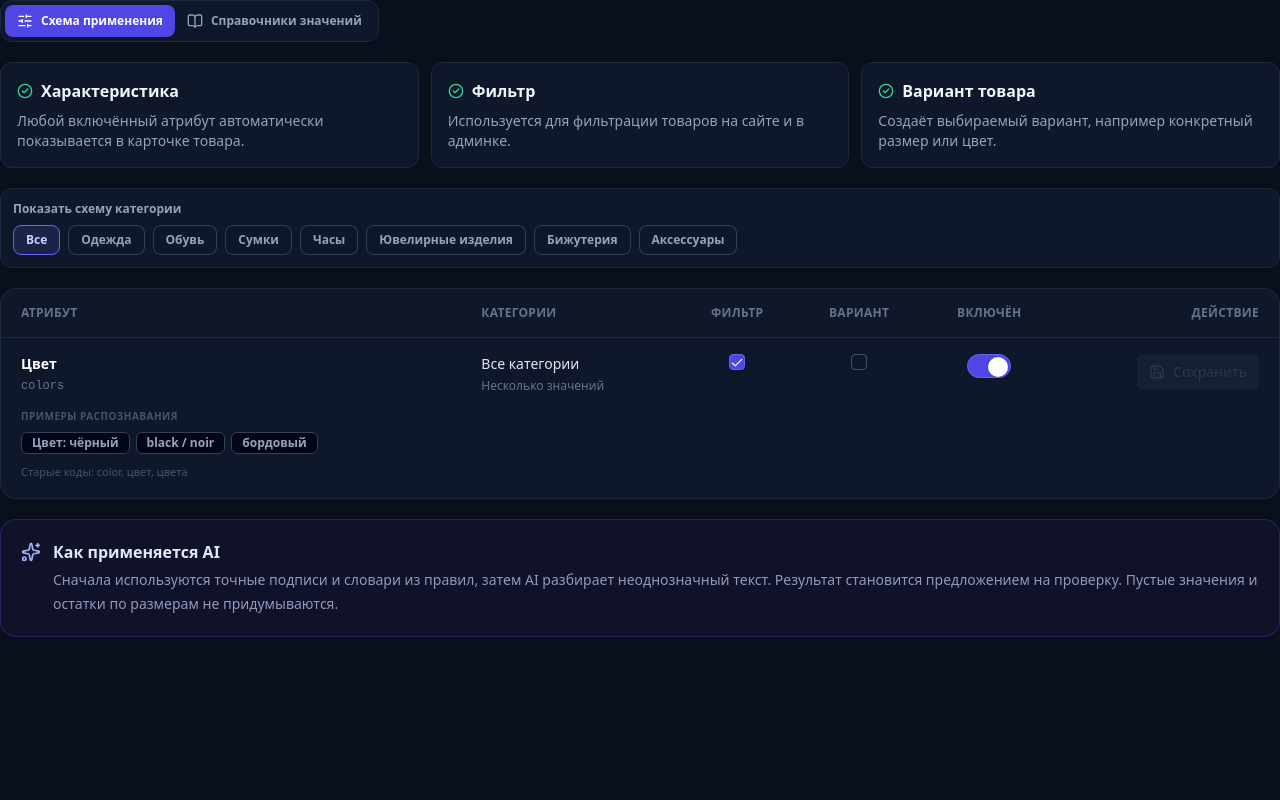
CatalogAttributeRegistry › separates parser examples from editable dictionary values
The width and height of the screenshot is (1280, 800).
Expected: the text "Примеры распознавания" is shown, [21,409,178,423]
Expected: the text "Цвет: чёрный" is shown, [21,432,130,454]
Click the button "Справочники значений".
click(274, 21)  # box [175,5,374,37]
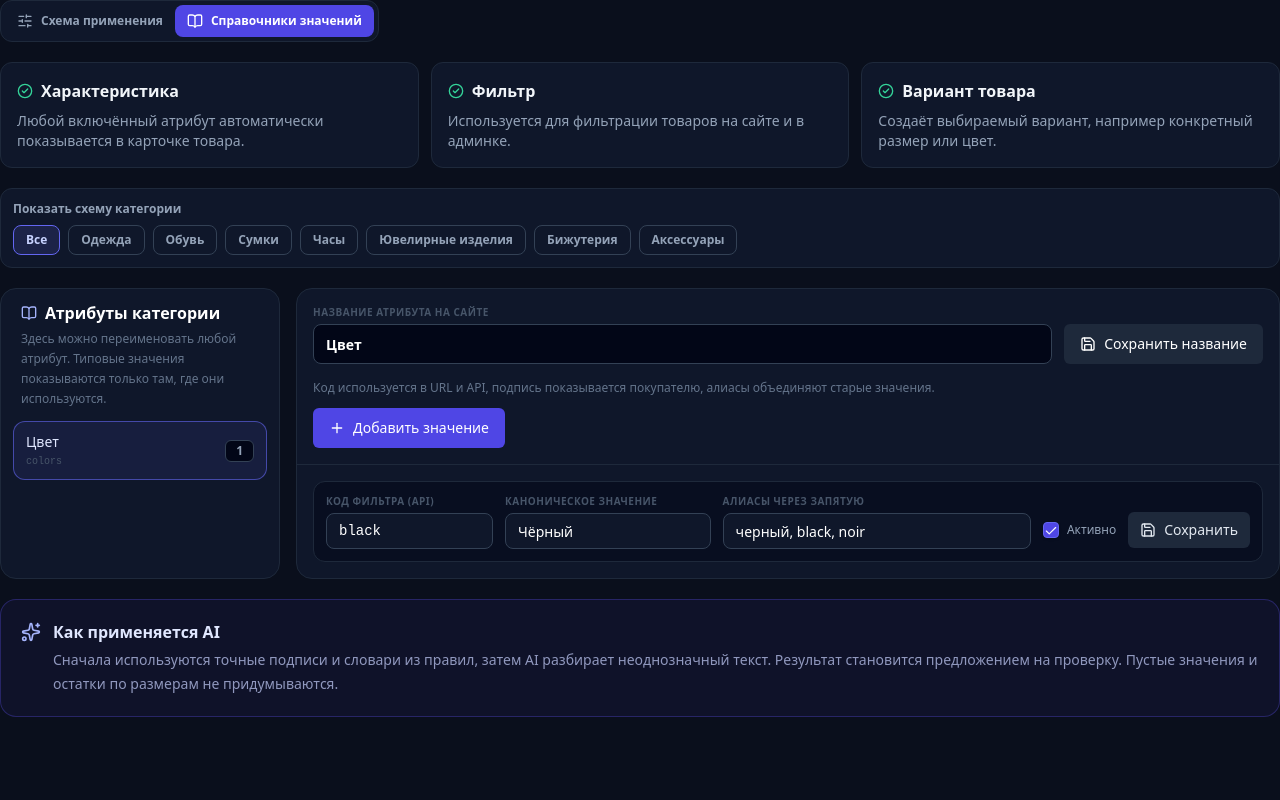
Now the field showing "black" is shown, box [326,513,493,549]
Now the field showing "Чёрный" is shown, box [505,513,711,549]
Now the field showing "черный, black, noir" is shown, box [723,513,1031,549]
